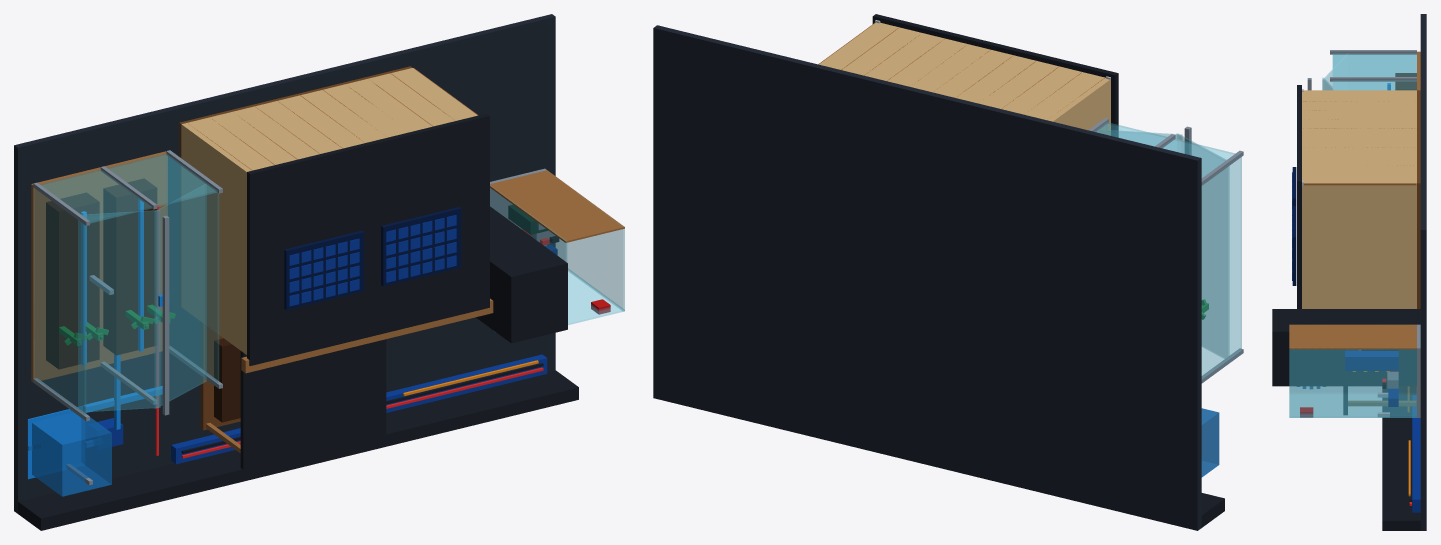
File: project_domus.obj
3 views of the same model, side by side, from view 1: azimuth 30°, elevation 25°; view 2: azimuth 150°, elevation 25°; view 3: azimuth 270°, elevation 25° (orthographic). The views are drawn at different scales.
Parts seen in each view (by area): view 1: Base_negra_1000x650, Techo_plano_removible, Cubierta_inclinada_izquierda, Frente_rotulado_PROJECT_DOMUS, Muro_posterior_vivienda, Cubierta_porche, Muro_lateral_izquierdo, Panel_transparente_izquierdo, Panel_transparente_derecho, Cubierta_inclinada_derecha, Base_invernadero, Torre_Jarvis_cuerpo (+21 smaller); view 2: Base_negra_1000x650, Muro_posterior_vivienda, Panel_transparente_izquierdo, Cubierta_inclinada_izquierda, Techo_plano_removible, Panel_transparente_posterior, Muro_lateral_izquierdo, Depósito_de_agua, Cubierta_inclinada_derecha; view 3: Muro_lateral_derecho, Muro_posterior_vivienda, Gabinete_lateral_derecho, Torre_Jarvis_cuerpo, Gabinete_lateral_izquierdo, Frente_rotulado_PROJECT_DOMUS, Base_negra_1000x650, Gabinete_fondo, Panel_transparente_posterior, Gabinete_frontal_removible, Panel_transparente_izquierdo, Módulo_relés_4_canales (+14 smaller).
Boxes of the visible parts, box(x1,y1,x2,y2) form: Base_negra_1000x650: box(14, 14, 555, 513); Techo_plano_removible: box(247, 113, 489, 365); Cubierta_inclinada_izquierda: box(78, 210, 160, 411); Frente_rotulado_PROJECT_DOMUS: box(18, 370, 578, 530); Muro_posterior_vivienda: box(181, 68, 477, 173); Cubierta_porche: box(240, 339, 386, 469); Muro_lateral_izquierdo: box(181, 126, 247, 354); Panel_transparente_izquierdo: box(33, 188, 85, 419); Panel_transparente_derecho: box(167, 157, 218, 386); Cubierta_inclinada_derecha: box(154, 184, 206, 408); Base_invernadero: box(31, 151, 167, 382); Torre_Jarvis_cuerpo: box(476, 206, 567, 343); Base_negra_1000x650: box(653, 25, 1201, 530); Muro_posterior_vivienda: box(819, 22, 1110, 121); Panel_transparente_izquierdo: box(1202, 157, 1241, 378); Cubierta_inclinada_izquierda: box(1176, 133, 1229, 358); Techo_plano_removible: box(872, 14, 1118, 136); Panel_transparente_posterior: box(1095, 122, 1234, 177); Muro_lateral_izquierdo: box(1052, 79, 1110, 135); Depósito_de_agua: box(1201, 408, 1219, 477); Cubierta_inclinada_derecha: box(1099, 129, 1182, 151); Muro_lateral_derecho: box(1302, 182, 1416, 308); Muro_posterior_vivienda: box(1302, 90, 1416, 184); Gabinete_lateral_derecho: box(1289, 348, 1416, 417); Torre_Jarvis_cuerpo: box(1272, 309, 1420, 386); Gabinete_lateral_izquierdo: box(1289, 350, 1416, 392); Frente_rotulado_PROJECT_DOMUS: box(1382, 386, 1420, 530); Base_negra_1000x650: box(1420, 14, 1426, 530); Gabinete_fondo: box(1289, 324, 1416, 349); Panel_transparente_posterior: box(1333, 53, 1416, 89); Gabinete_frontal_removible: box(1289, 394, 1416, 417); Panel_transparente_izquierdo: box(1333, 55, 1416, 89); Módulo_relés_4_canales: box(1345, 350, 1398, 370).
Size of the model in its own units: 1000 by 650 by 302.
